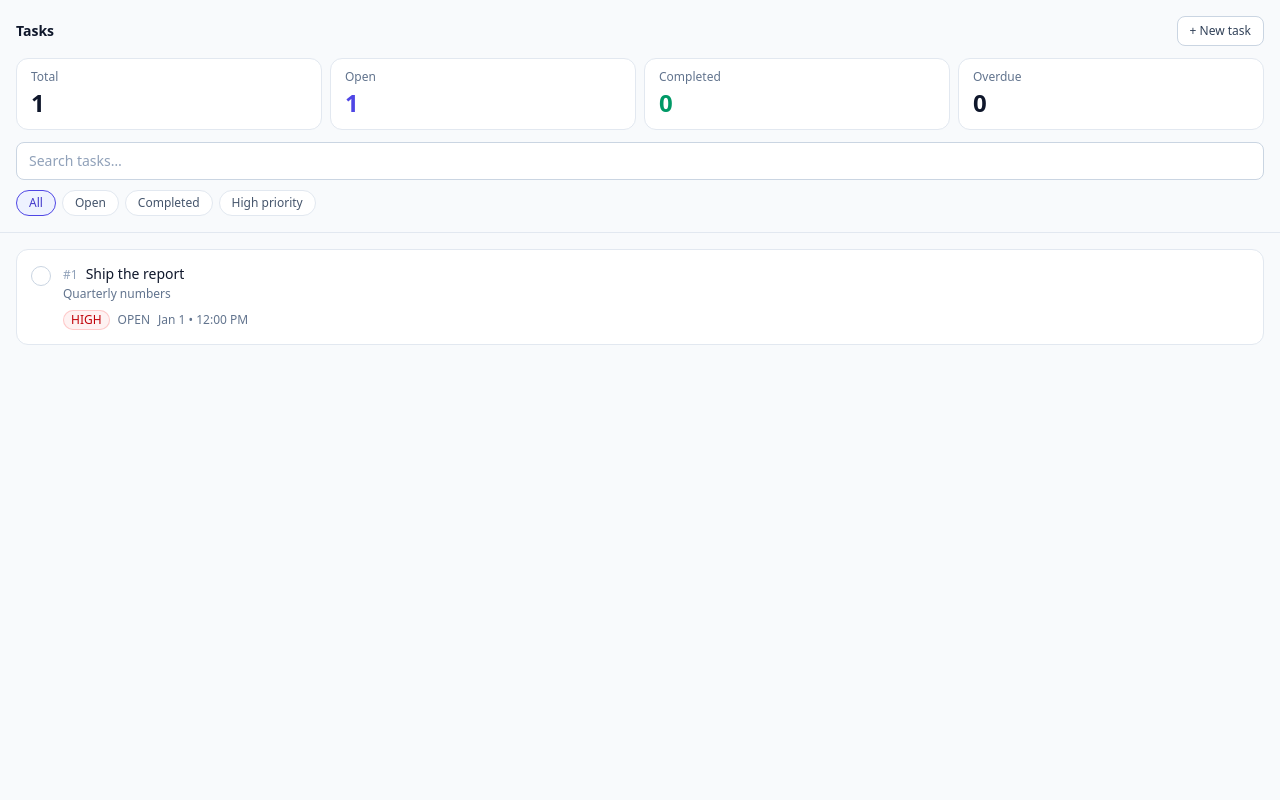
Test: task checkbox toggles complete <-> open › completes an open task, then reopens it again (open -> completed -> open)
This screenshot has width=1280, height=800.
Click the checkbox named "Mark task 1 complete" at coordinates (41, 276), box [31,266,51,286]
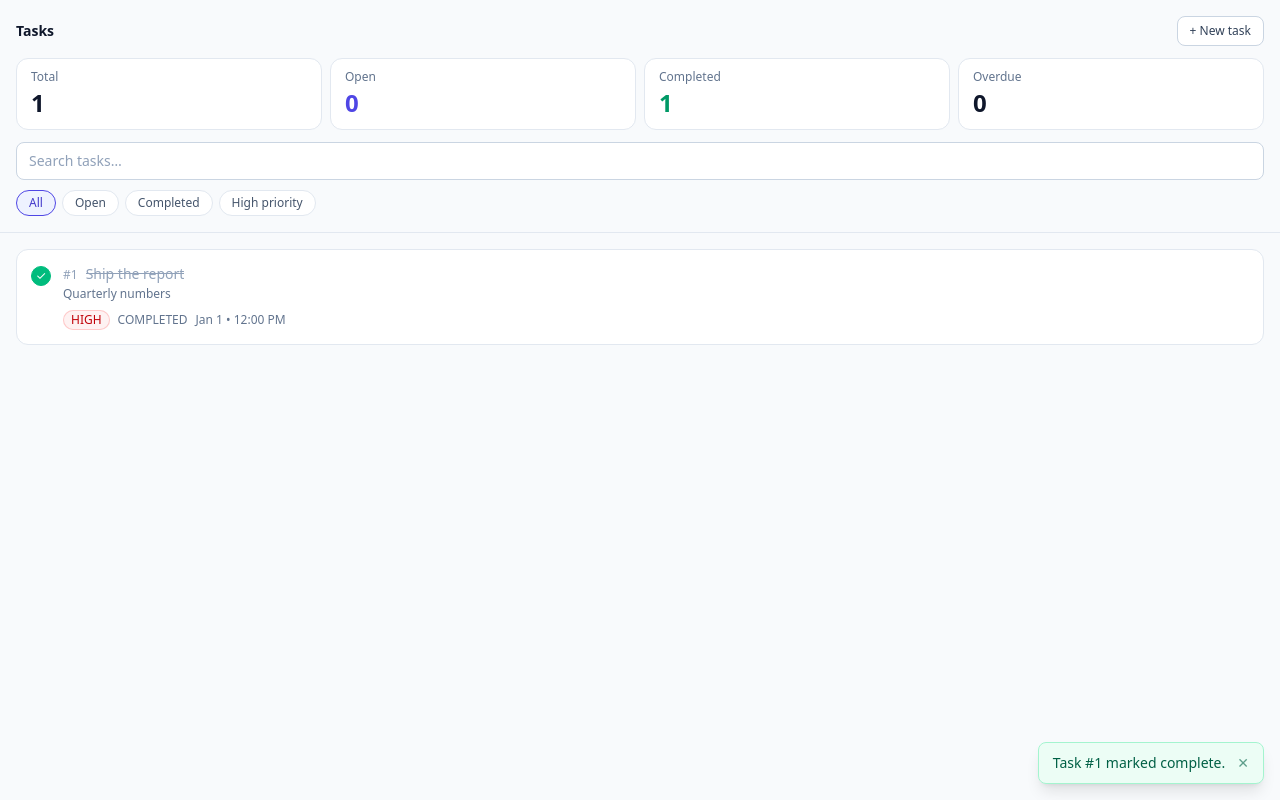
Click the checkbox named "Reopen task 1" at coordinates (41, 276), box [31,266,51,286]
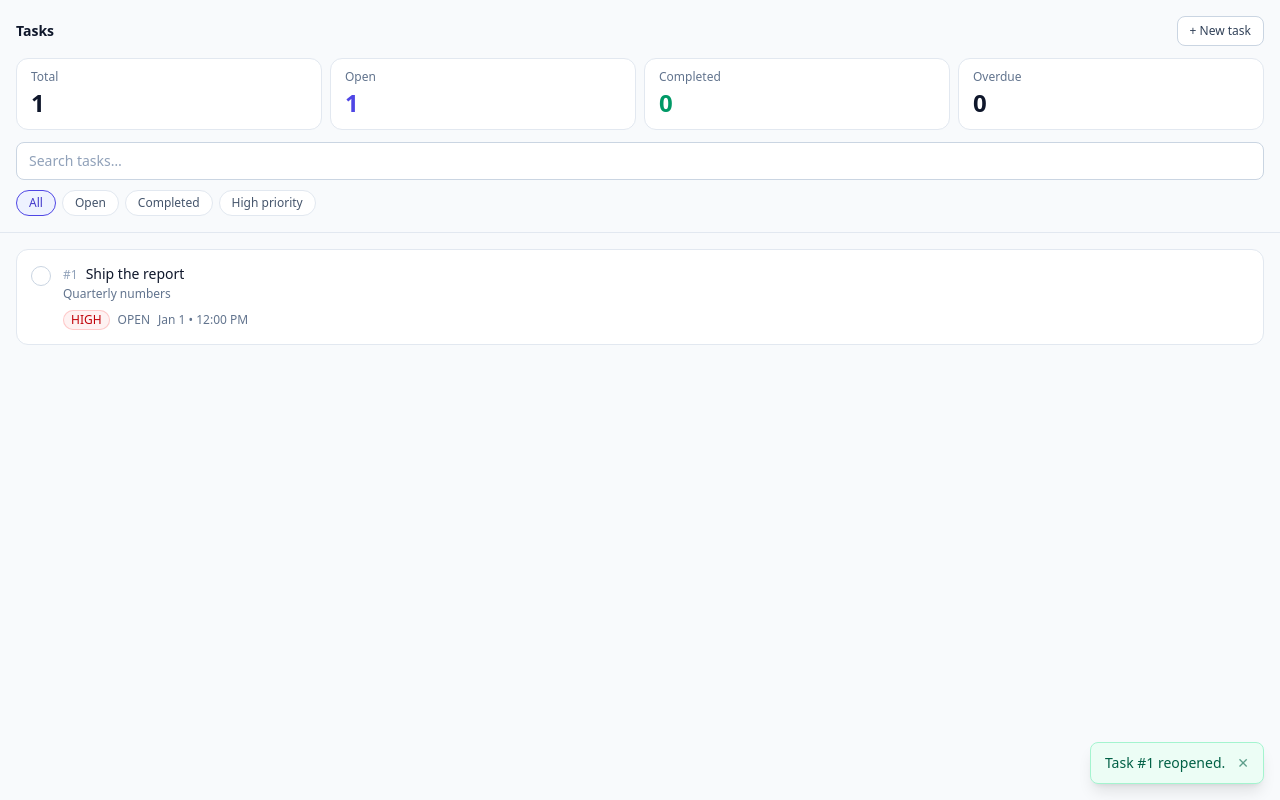
Result: the checkbox named "Mark task 1 complete" is shown at [31,266,51,286]
